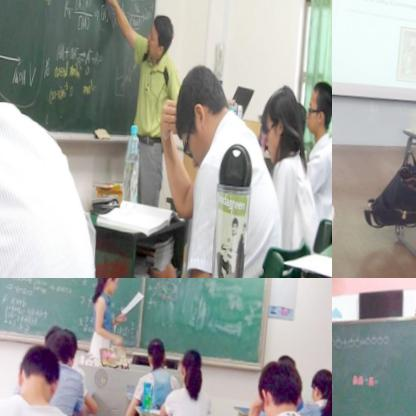head: (172, 51, 235, 163), (257, 68, 306, 161), (257, 347, 305, 412), (17, 340, 61, 401), (144, 2, 175, 59), (307, 70, 332, 131), (180, 339, 206, 378), (47, 329, 76, 363), (309, 354, 332, 392), (145, 329, 170, 363), (97, 278, 120, 294)
